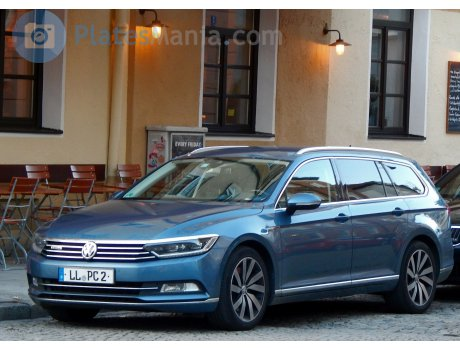License Plates: (64, 268, 112, 280)
